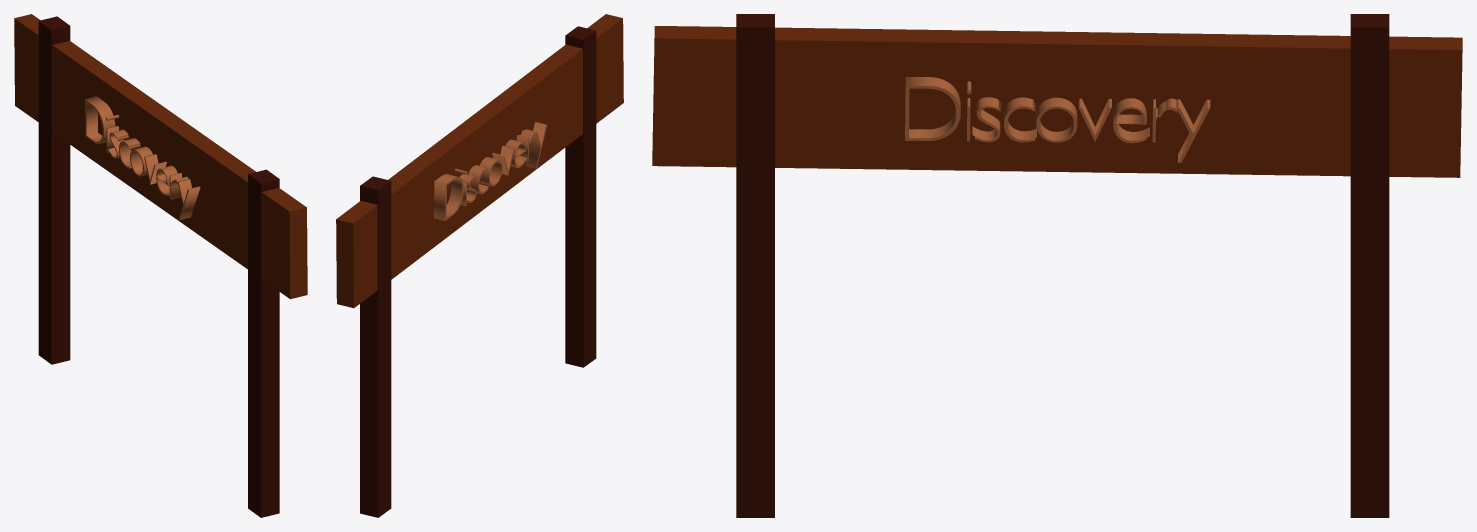
The model's file is Discovery Camp.fbx.
3 views of the same model, side by side, from view 1: azimuth 30°, elevation 25°; view 2: azimuth 150°, elevation 25°; view 3: azimuth 270°, elevation 25° (orthographic). The views are drawn at different scales.
Visible parts, largest first — view 1: Cube.001, Text; view 2: Cube.001, Text; view 3: Cube.001, Text.001.
Boxes of the visible parts, <box> form: Cube.001: <box>14,14,307,517</box>; Text: <box>85,96,200,219</box>; Cube.001: <box>336,14,623,517</box>; Text: <box>434,122,546,220</box>; Cube.001: <box>652,14,1462,517</box>; Text.001: <box>905,77,1210,162</box>.
Bounding box in the file's own units: 102 × 777 × 1163.
